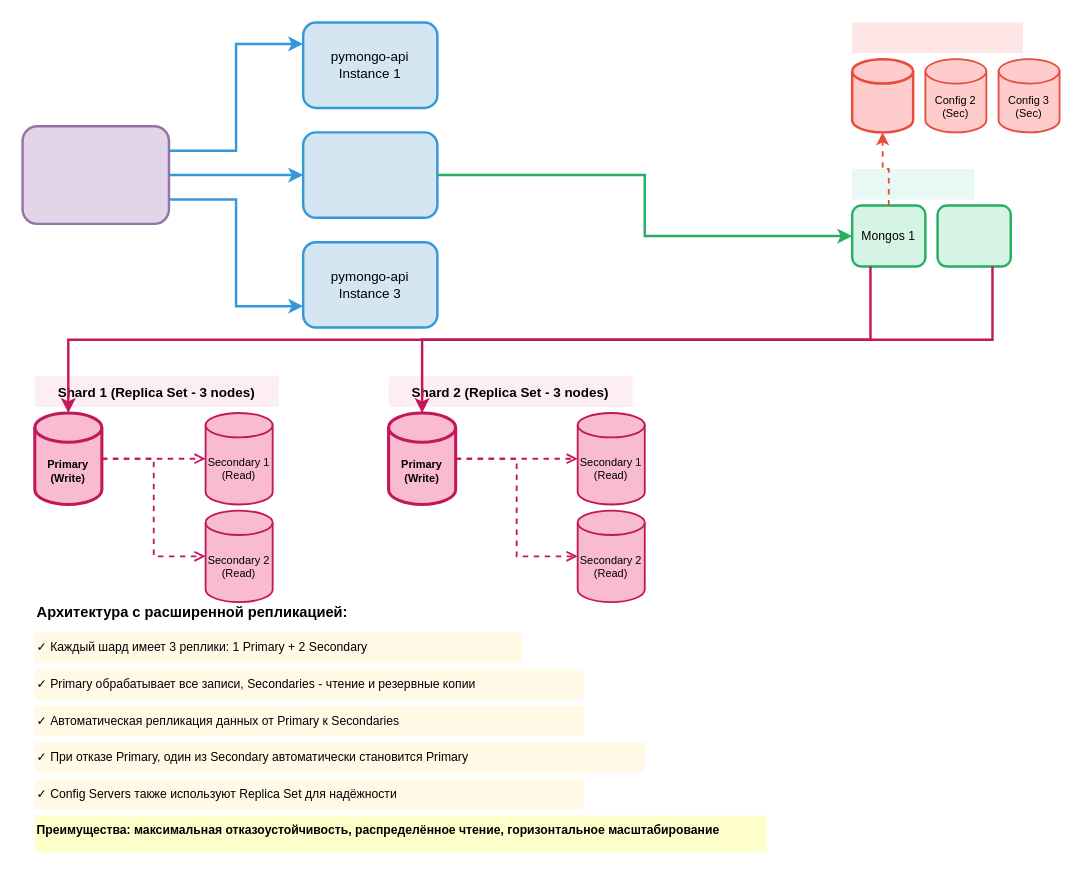
Some shapes in this 1081 by 872 pixel diagram are drawn without their labels. The centre of each missing label's shape, as x and y in pixels:
Config 1 (Primary): point 882,95
Config Servers (Replica Set): point 937,37
Load Balancer (Nginx): point 95,174
Mongos 2: point 973,235
Mongos Routers: point 913,183
pymongo-api Instance 2: point 369,174
